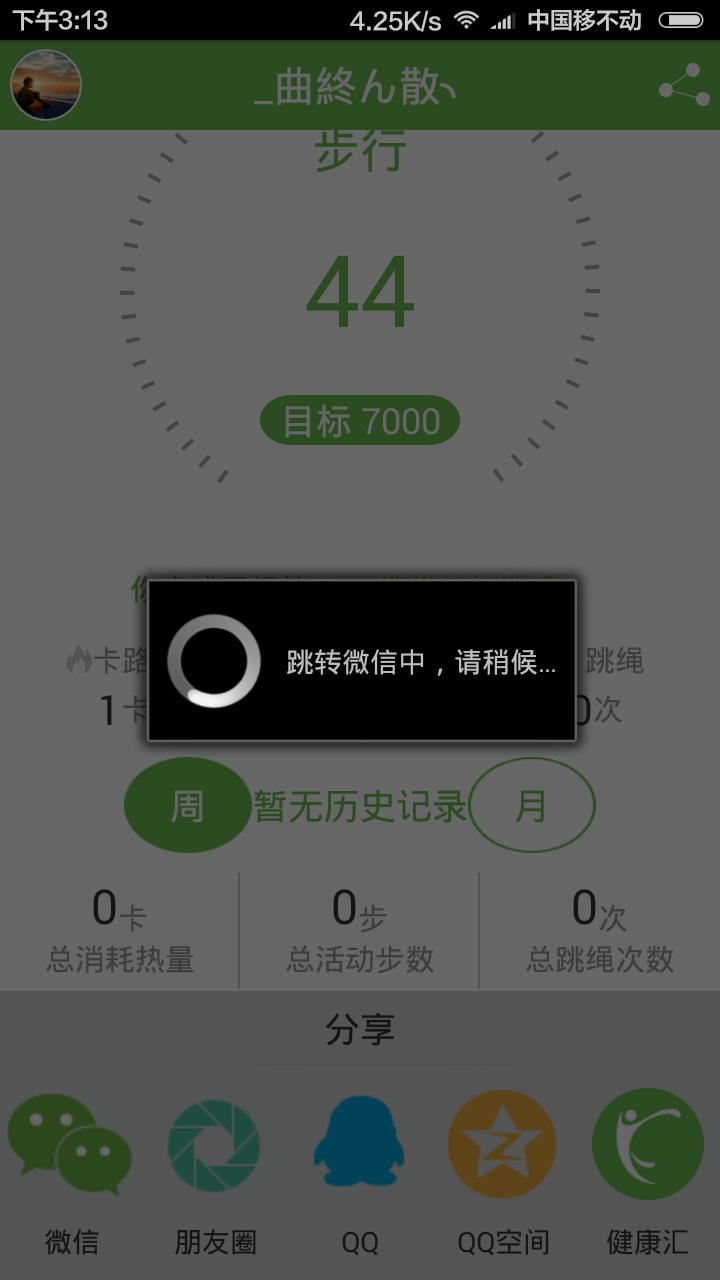alert: (137, 569, 593, 754)
